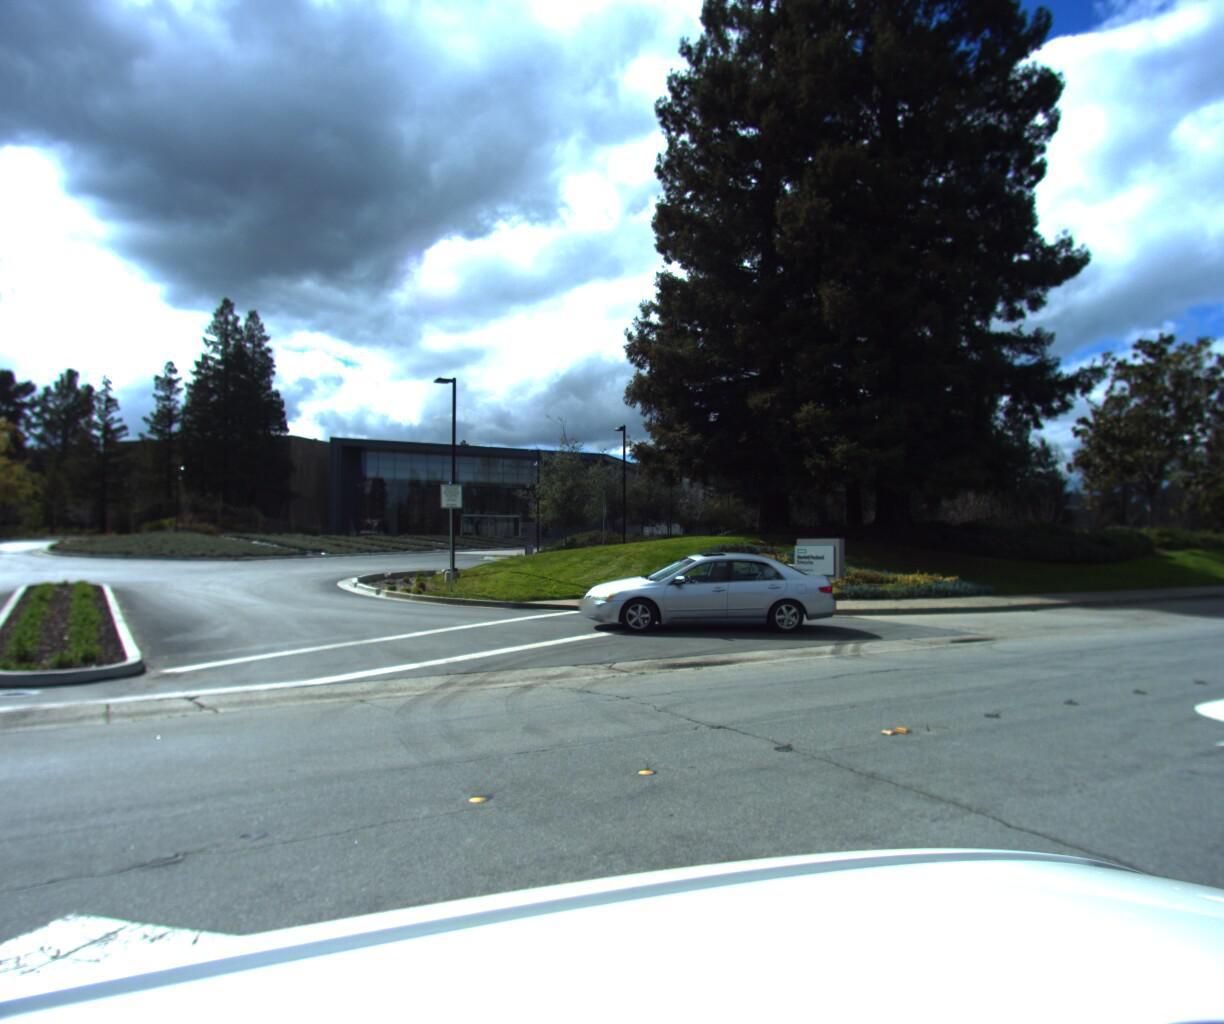car: (579, 552, 836, 642)
